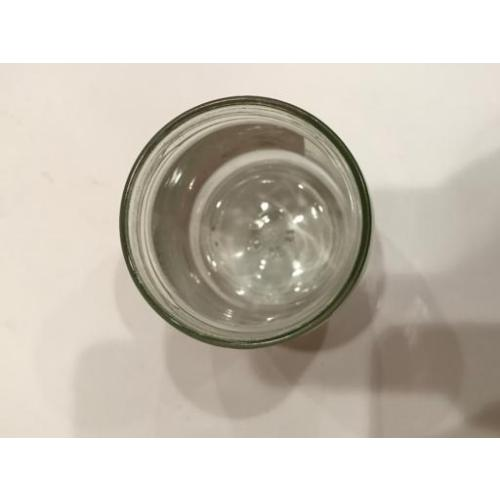glass: (127, 94, 371, 346)
